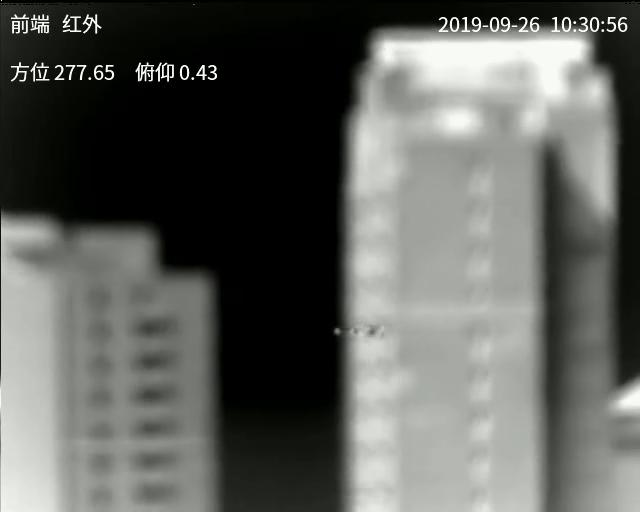uav: (330, 324, 385, 340)
